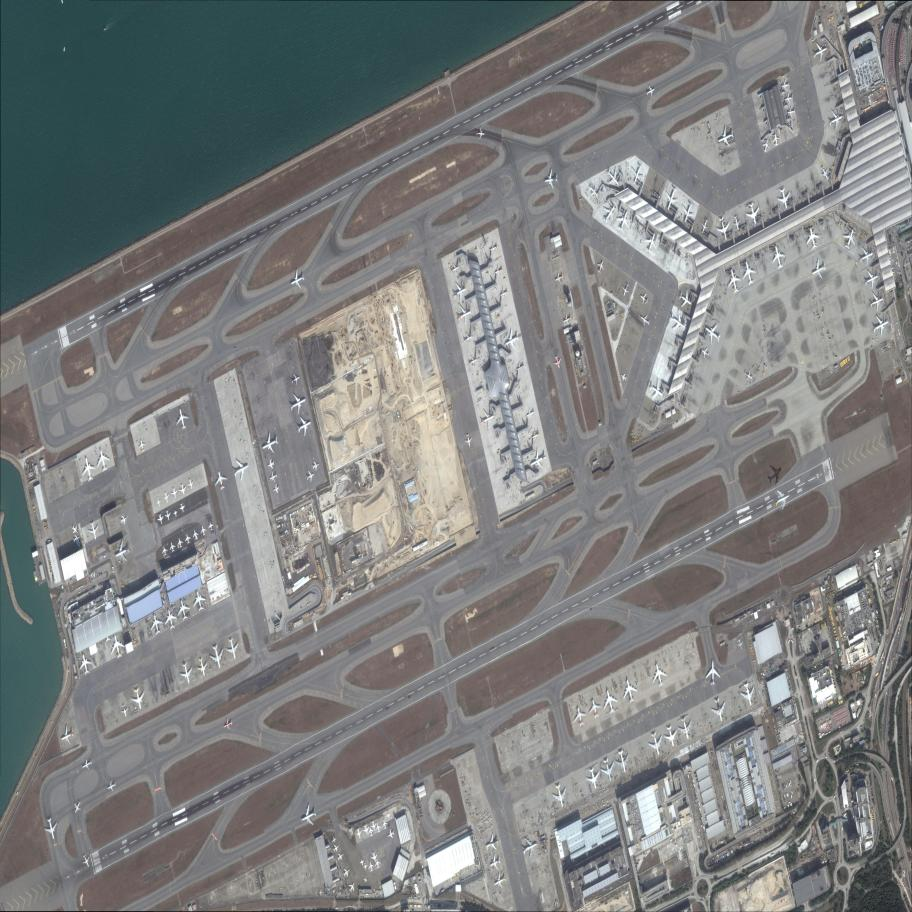large-vehicle: (448, 874, 451, 882), (451, 872, 454, 880), (453, 872, 456, 880), (454, 871, 457, 879), (452, 872, 455, 879), (466, 865, 469, 872), (695, 803, 700, 807), (849, 766, 854, 770), (446, 878, 449, 883), (455, 871, 457, 878), (456, 871, 458, 878), (787, 781, 789, 788), (688, 771, 692, 774), (695, 775, 699, 778), (695, 802, 699, 805), (696, 819, 698, 825), (694, 880, 697, 884), (700, 846, 703, 850), (674, 844, 678, 847), (669, 839, 673, 842), (645, 853, 648, 857), (819, 736, 823, 739), (822, 734, 826, 737), (822, 733, 825, 737), (828, 731, 832, 734), (665, 853, 667, 859), (457, 872, 459, 878), (463, 865, 465, 871), (783, 784, 785, 790), (784, 783, 786, 789), (790, 780, 792, 786), (694, 799, 696, 804), (721, 855, 723, 860), (723, 854, 725, 859), (826, 721, 828, 726), (821, 724, 823, 729), (819, 725, 821, 730), (787, 792, 789, 797), (791, 627, 794, 630), (696, 779, 699, 782), (819, 735, 822, 738), (819, 734, 822, 737), (819, 733, 822, 736), (818, 732, 821, 735), (826, 726, 829, 729), (816, 759, 819, 762), (716, 859, 718, 863), (684, 766, 686, 770), (686, 779, 688, 783), (682, 845, 684, 849), (681, 845, 683, 849), (679, 846, 681, 850), (722, 855, 724, 859), (824, 723, 826, 727), (724, 854, 726, 858), (823, 723, 825, 727), (729, 851, 731, 855), (639, 860, 641, 864), (373, 888, 375, 892), (784, 794, 786, 798), (786, 793, 788, 797), (822, 733, 825, 735), (826, 725, 829, 727), (724, 842, 727, 844), (727, 850, 730, 852), (825, 756, 828, 758), (691, 782, 692, 787), (721, 856, 722, 860), (715, 859, 716, 863), (814, 778, 815, 782), (696, 808, 697, 812), (699, 828, 700, 832), (823, 724, 824, 728), (822, 724, 823, 728), (821, 725, 822, 729), (729, 851, 730, 855), (730, 851, 731, 855), (725, 853, 726, 857), (720, 857, 721, 860)
plane: (647, 659, 671, 692), (618, 675, 642, 708), (660, 183, 684, 216), (77, 453, 100, 486), (644, 376, 669, 406), (723, 264, 745, 298), (700, 319, 724, 350), (229, 454, 253, 485), (666, 307, 690, 338), (105, 630, 128, 662), (285, 390, 310, 419), (111, 537, 135, 567), (519, 832, 542, 863), (738, 257, 760, 289), (527, 445, 550, 475), (207, 641, 229, 672), (715, 123, 737, 154), (646, 728, 667, 760), (600, 686, 621, 718), (598, 754, 619, 786), (297, 801, 320, 830), (286, 266, 309, 295), (502, 326, 524, 356), (550, 781, 572, 811), (677, 198, 699, 228), (675, 713, 696, 744), (93, 445, 114, 476), (189, 586, 210, 617), (602, 164, 626, 191), (768, 241, 788, 273), (259, 430, 281, 459), (772, 485, 794, 514), (870, 312, 892, 341), (808, 255, 829, 285), (223, 634, 244, 664), (839, 225, 860, 255), (739, 679, 759, 710), (714, 214, 734, 245), (173, 596, 194, 625), (743, 200, 764, 229), (613, 747, 633, 777), (172, 404, 192, 434), (803, 224, 823, 254), (709, 696, 729, 725), (584, 765, 604, 794), (42, 814, 61, 844), (585, 696, 606, 723), (57, 723, 78, 750), (775, 186, 796, 213), (599, 199, 620, 226), (641, 229, 662, 256), (675, 286, 696, 313), (295, 412, 315, 440), (661, 723, 681, 751), (75, 650, 95, 678), (177, 659, 197, 687), (211, 467, 231, 495), (146, 610, 166, 638), (161, 604, 180, 633), (454, 302, 474, 329), (450, 279, 470, 306), (570, 703, 590, 730), (478, 406, 498, 432), (129, 686, 148, 713), (857, 244, 876, 271), (614, 207, 633, 234), (827, 107, 846, 134), (628, 161, 647, 187), (867, 289, 886, 315), (862, 267, 881, 293), (811, 39, 830, 65), (704, 658, 721, 687), (483, 831, 502, 855), (194, 655, 212, 679), (86, 519, 103, 543), (491, 870, 509, 892), (816, 162, 833, 184), (543, 168, 559, 191), (487, 852, 503, 874), (79, 851, 94, 871), (697, 216, 711, 237), (586, 181, 602, 199), (496, 284, 511, 303), (220, 716, 236, 733), (513, 358, 528, 376), (487, 239, 501, 258), (594, 256, 607, 276), (551, 353, 565, 371), (524, 405, 538, 423), (289, 371, 303, 389), (741, 366, 755, 384), (638, 311, 652, 329), (637, 290, 651, 308), (619, 280, 632, 299), (461, 330, 475, 347), (80, 756, 94, 773), (644, 83, 658, 100), (529, 426, 542, 444), (462, 431, 475, 449), (466, 352, 479, 370), (492, 262, 505, 280), (304, 467, 317, 485), (731, 213, 743, 232), (116, 512, 131, 527), (339, 865, 354, 880), (448, 261, 462, 277), (553, 269, 566, 286), (699, 344, 712, 361), (71, 798, 84, 815), (105, 779, 118, 795), (346, 879, 359, 895), (119, 702, 131, 719), (136, 438, 148, 455), (761, 137, 772, 155), (334, 849, 347, 864), (384, 826, 396, 842), (770, 132, 782, 148), (561, 311, 573, 327), (268, 469, 279, 485), (475, 127, 487, 141), (361, 822, 372, 837), (178, 482, 189, 497), (182, 531, 193, 546), (190, 527, 201, 542), (330, 842, 342, 855), (310, 459, 321, 473), (271, 482, 282, 496), (186, 477, 197, 491), (161, 491, 172, 505), (70, 523, 81, 537), (369, 850, 380, 864), (163, 508, 173, 523), (373, 856, 383, 871), (198, 523, 208, 538), (786, 104, 796, 119), (839, 809, 850, 822), (266, 457, 276, 471), (354, 827, 364, 841), (366, 825, 376, 839), (736, 637, 746, 651), (373, 821, 383, 835), (380, 817, 390, 831), (156, 512, 166, 526), (170, 486, 180, 500), (167, 540, 177, 554), (160, 544, 170, 558), (175, 536, 185, 550), (784, 91, 794, 105), (618, 370, 628, 383), (369, 819, 379, 832), (366, 860, 376, 873), (781, 78, 790, 92), (178, 501, 187, 514), (154, 496, 163, 509), (206, 520, 215, 533), (72, 533, 81, 545), (330, 835, 338, 845), (172, 508, 179, 518), (385, 810, 392, 820), (359, 857, 366, 867), (362, 862, 369, 871), (362, 875, 369, 884), (318, 888, 323, 896)
ship: (32, 570, 39, 583), (64, 47, 65, 51)
small-vehicle: (404, 566, 408, 569), (704, 897, 706, 900), (701, 900, 703, 901)
storage-tank: (575, 350, 580, 357), (890, 598, 892, 600), (891, 594, 893, 596), (892, 597, 893, 599), (890, 595, 891, 597)
